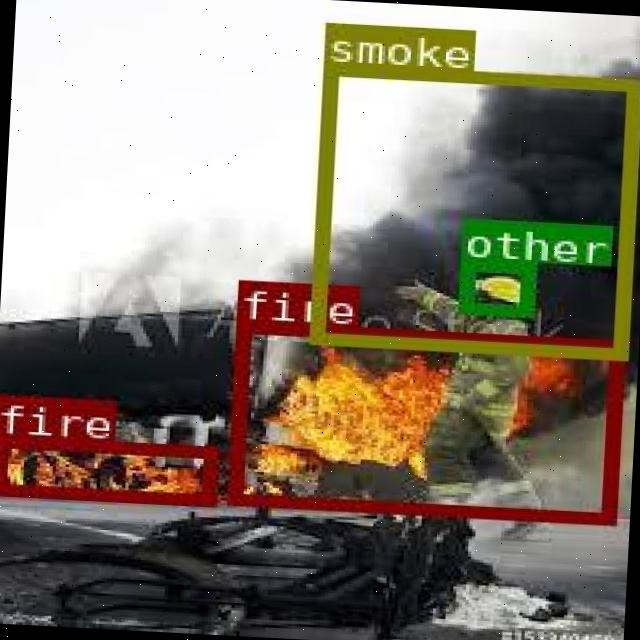fire: (228, 320, 622, 522), (0, 433, 214, 505)
smoke: (309, 62, 638, 359)
